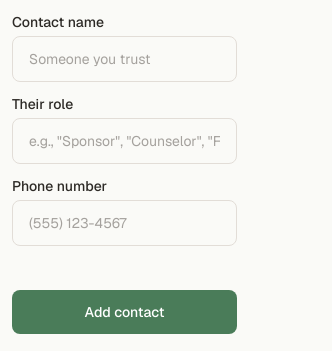
Test: SupportContactForm › validation › shows error when name is empty
The image size is (332, 351).
Type "Sponsor" into the field labelled "Their role" at {"x": 124, "y": 141}, box [12,118,237,164]
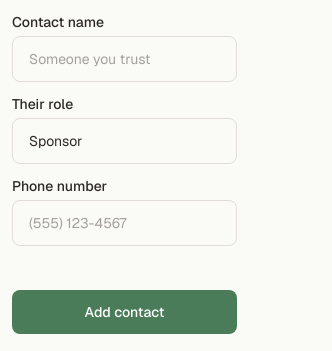
Type "555-0000" into the field labelled "Phone number" at {"x": 124, "y": 223}, box [12,200,237,246]
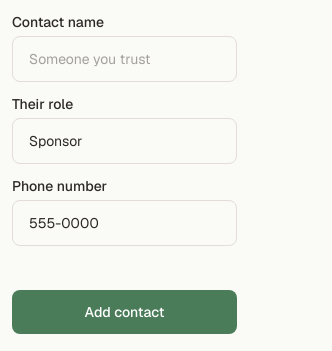
Click the button "Add contact" at {"x": 124, "y": 312}, box [12,290,237,334]
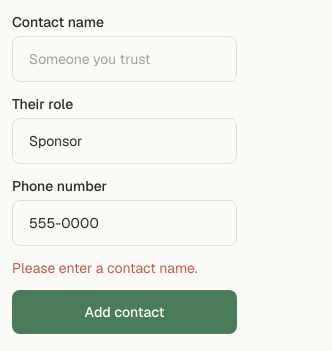
Now the text "Please enter a contact name." is shown, box [12,259,198,277]
